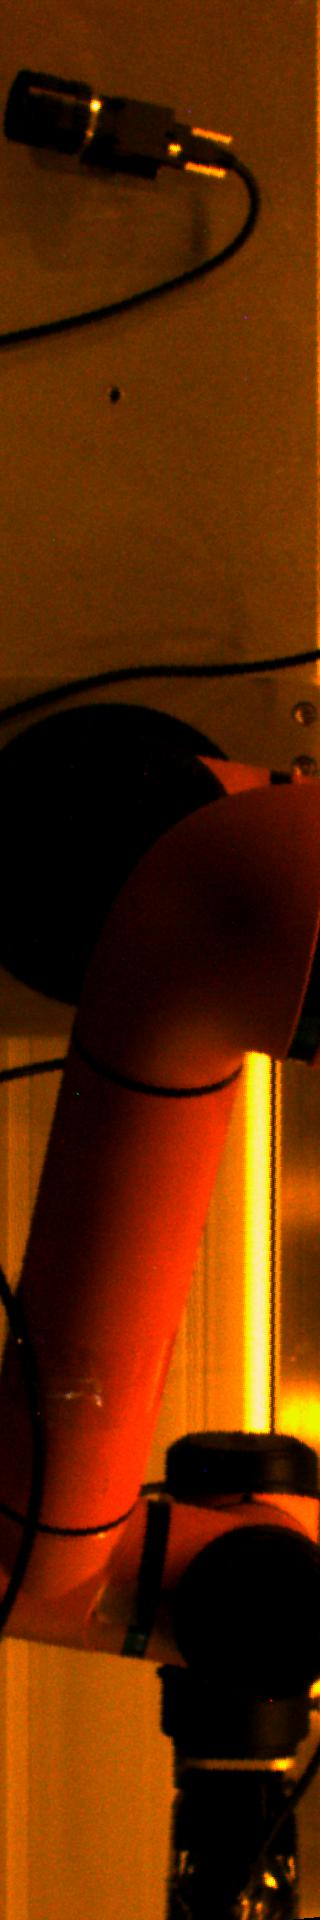keyPoint_2: (99, 382, 129, 411)
